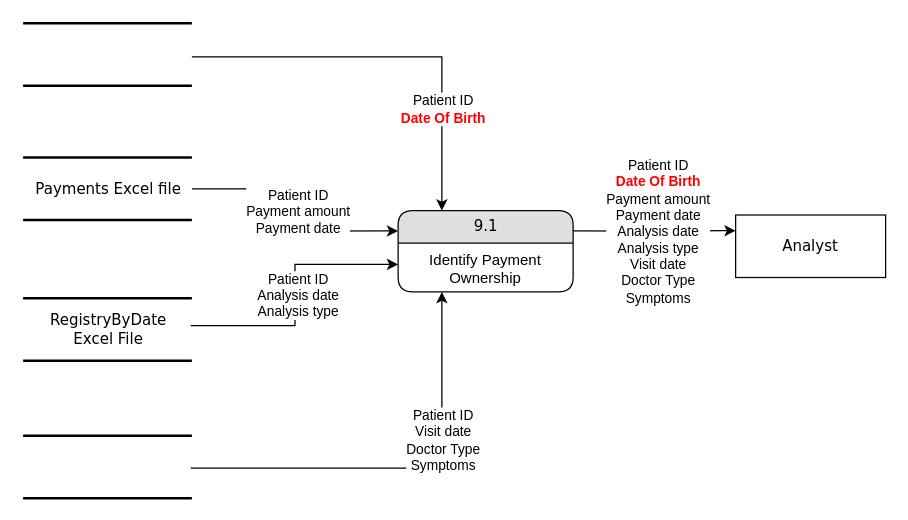
The diagram is 908 pixels wide and 520 high, and some of its shapes have lost their labels. The box of each missing label's shape, as (x1, y1, x2, y2) in pixels:
Journal Doctor FIO X Excel file: (21, 434, 192, 499)
Patients Excel file: (21, 21, 192, 86)
